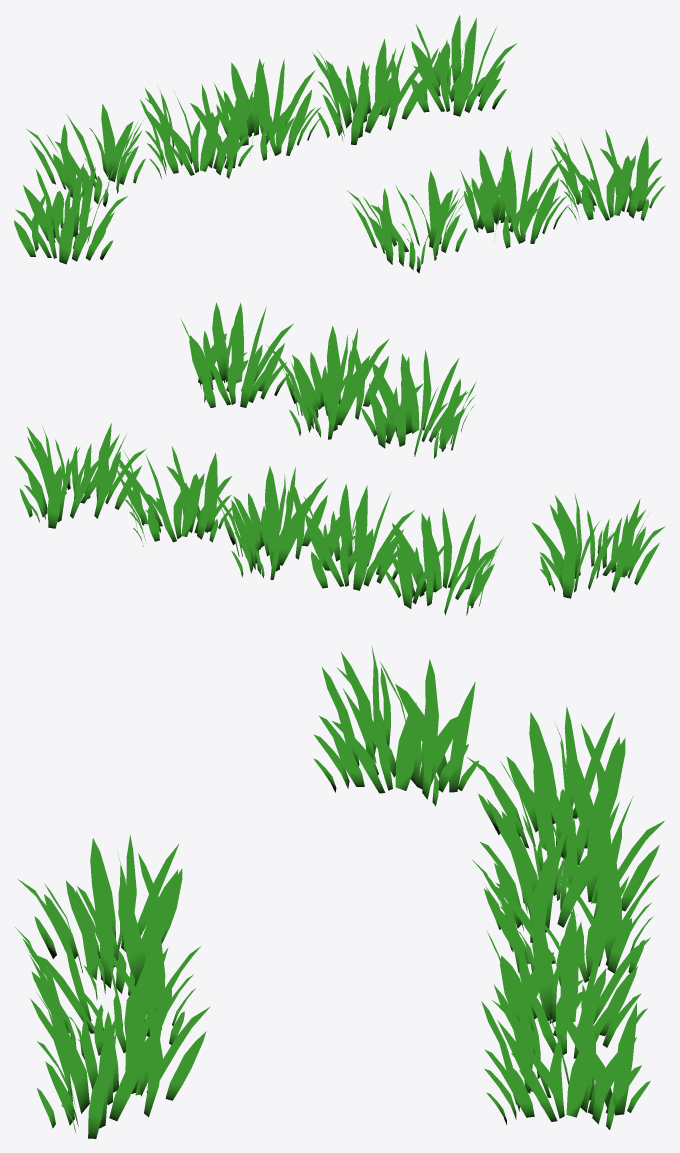
Rendered from Grass.fbx.
The picture shows the model from 3 angles, top to bottom: view 1: azimuth 30°, elevation 25°; view 2: azimuth 150°, elevation 25°; view 3: azimuth 270°, elevation 25°; orthographic projection. The views are drawn at different scales.
Visible parts, largest first — view 1: pasted__pasted__pasted__pasted__pasted__pasted__SM_Grass_Clu (×2), pasted__pasted__pasted__pasted__pasted__SM_Grass_Clump_01_LO (×2), SM_Grass_Clump_01_LOD0, pasted__pasted__pasted__SM_Grass_Clump_01_LOD0, pasted__pasted__pasted__pasted__SM_Grass_Clump_01_LOD0, pasted__pasted__pasted__pasted__pasted__pasted__pasted__SM_G, pasted__pasted__SM_Grass_Clump_01_LOD0; view 2: pasted__pasted__pasted__pasted__pasted__pasted__SM_Grass_Clu (×2), pasted__pasted__pasted__pasted__pasted__SM_Grass_Clump_01_LO (×2), pasted__pasted__pasted__pasted__SM_Grass_Clump_01_LOD0, SM_Grass_Clump_01_LOD0, pasted__pasted__SM_Grass_Clump_01_LOD0, pasted__pasted__pasted__pasted__pasted__pasted__pasted__SM_G, pasted__pasted__pasted__SM_Grass_Clump_01_LOD0; view 3: pasted__pasted__pasted__pasted__pasted__SM_Grass_Clump_01_LO (×2), pasted__pasted__pasted__pasted__pasted__pasted__SM_Grass_Clu (×2), SM_Grass_Clump_01_LOD0, pasted__pasted__pasted__pasted__pasted__pasted__pasted__SM_G, pasted__pasted__pasted__SM_Grass_Clump_01_LOD0, pasted__pasted__SM_Grass_Clump_01_LOD0, pasted__pasted__pasted__pasted__SM_Grass_Clump_01_LOD0.
Boxes of the visible parts, x1,y1,x2,y2 form: pasted__pasted__pasted__pasted__pasted__pasted__SM_Grass_Clu (×2): [410, 15, 568, 248]; pasted__pasted__pasted__pasted__pasted__SM_Grass_Clump_01_LO (×2): [312, 39, 472, 273]; SM_Grass_Clump_01_LOD0: [14, 163, 127, 264]; pasted__pasted__pasted__SM_Grass_Clump_01_LOD0: [140, 84, 253, 178]; pasted__pasted__pasted__pasted__SM_Grass_Clump_01_LOD0: [214, 58, 322, 160]; pasted__pasted__pasted__pasted__pasted__pasted__pasted__SM_G: [551, 129, 665, 220]; pasted__pasted__SM_Grass_Clump_01_LOD0: [26, 104, 147, 206]; pasted__pasted__pasted__pasted__pasted__pasted__SM_Grass_Clu (×2): [14, 326, 389, 528]; pasted__pasted__pasted__pasted__pasted__SM_Grass_Clump_01_LO (×2): [114, 350, 475, 546]; pasted__pasted__pasted__pasted__SM_Grass_Clump_01_LOD0: [204, 466, 327, 579]; SM_Grass_Clump_01_LOD0: [532, 492, 665, 598]; pasted__pasted__SM_Grass_Clump_01_LOD0: [384, 507, 502, 615]; pasted__pasted__pasted__pasted__pasted__pasted__pasted__SM_G: [180, 302, 293, 407]; pasted__pasted__pasted__SM_Grass_Clump_01_LOD0: [304, 484, 414, 590]; pasted__pasted__pasted__pasted__pasted__SM_Grass_Clump_01_LO (×2): [18, 835, 650, 1058]; pasted__pasted__pasted__pasted__pasted__pasted__SM_Grass_Clu (×2): [15, 916, 650, 1129]; SM_Grass_Clump_01_LOD0: [313, 646, 479, 806]; pasted__pasted__pasted__pasted__pasted__pasted__pasted__SM_G: [30, 977, 210, 1138]; pasted__pasted__pasted__SM_Grass_Clump_01_LOD0: [480, 786, 664, 942]; pasted__pasted__SM_Grass_Clump_01_LOD0: [467, 706, 625, 865]; pasted__pasted__pasted__pasted__SM_Grass_Clump_01_LOD0: [472, 846, 659, 985].
Size of what is drawn, in the model's own units: 279 by 36.21 by 189.
